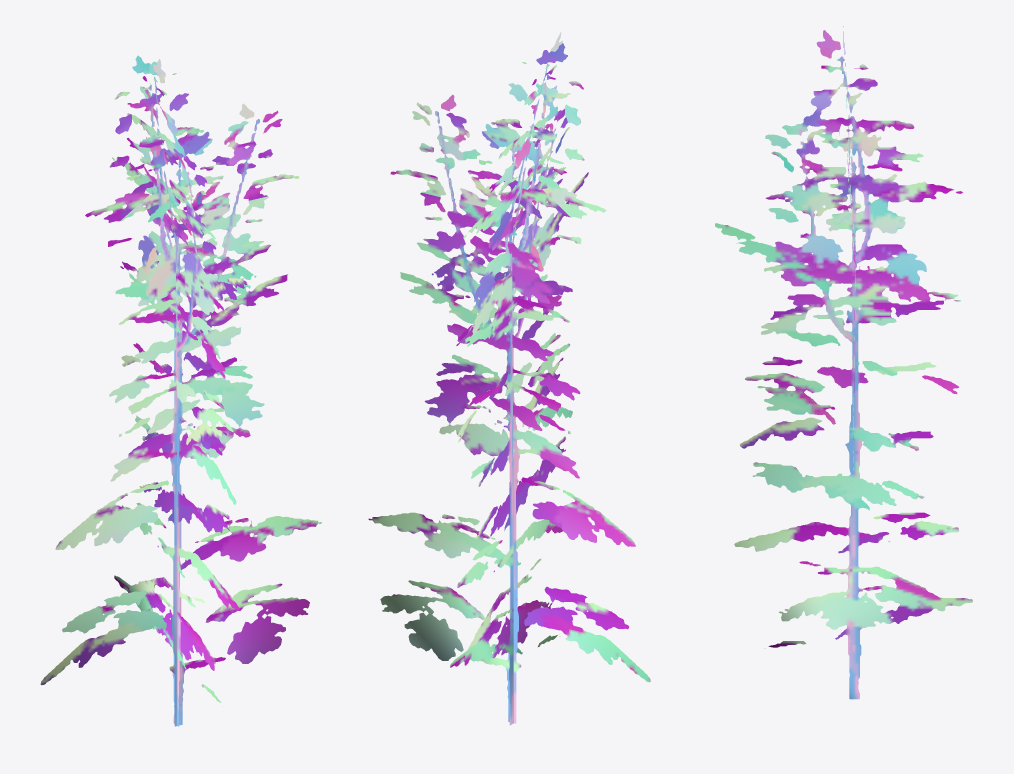
File: maple_bush_03_cross.FBX
The picture shows the model from 3 angles, left to right: view 1: azimuth 30°, elevation 25°; view 2: azimuth 150°, elevation 25°; view 3: azimuth 270°, elevation 25°; orthographic projection. The views are drawn at different scales.
Visible parts, largest first — view 1: maple_bush_03_cross; view 2: maple_bush_03_cross; view 3: maple_bush_03_cross.
Boxes of the visible parts, left/top/right/bottom form: maple_bush_03_cross: left=40, top=55, right=321, bottom=726; maple_bush_03_cross: left=368, top=32, right=650, bottom=725; maple_bush_03_cross: left=715, top=26, right=972, bottom=699.
Size of the model in its own units: 79.2 by 165 by 66.57.
